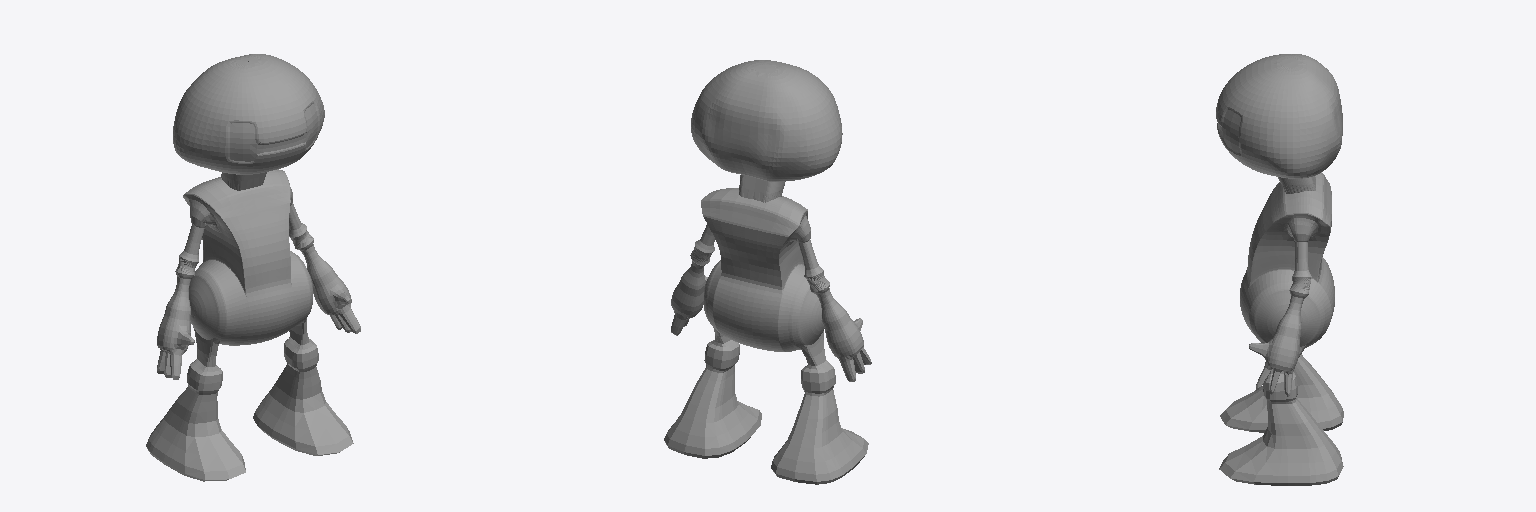
File: robot.obj
3 views of the same model, side by side, from view 1: azimuth 30°, elevation 25°; view 2: azimuth 150°, elevation 25°; view 3: azimuth 270°, elevation 25° (orthographic).
Parts seen in each view (by area): view 1: Cylinder; view 2: Cylinder; view 3: Cylinder.
Boxes of the visible parts, box(x1,y1,x2,y2) form: Cylinder: box(146, 54, 360, 481); Cylinder: box(664, 60, 871, 484); Cylinder: box(1216, 54, 1343, 485).
Bounding box in the file's own units: 2.62 × 5.08 × 1.54.